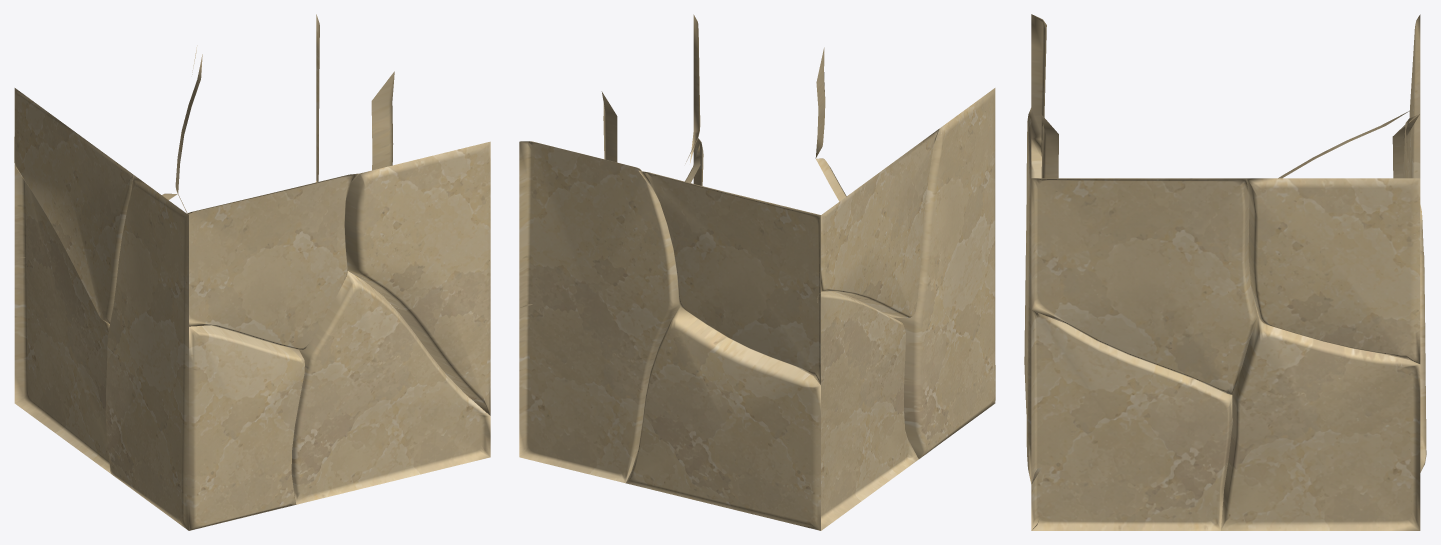
File: GroundRock07.glb
3 renders of one model, left to right at view 1: azimuth 30°, elevation 25°; view 2: azimuth 150°, elevation 25°; view 3: azimuth 270°, elevation 25°, orthographic. The views are drawn at different scales.
Visible parts, largest first — view 1: ground_rock_07; view 2: ground_rock_07; view 3: ground_rock_07.
Part boxes in pixels (left/top/right/bottom): ground_rock_07: left=14, top=14, right=490, bottom=530; ground_rock_07: left=519, top=14, right=995, bottom=530; ground_rock_07: left=1024, top=14, right=1426, bottom=530.
Size of the model in its own units: 1.03 by 1 by 1.03.
Materials: 15 (15 with a texture image).
